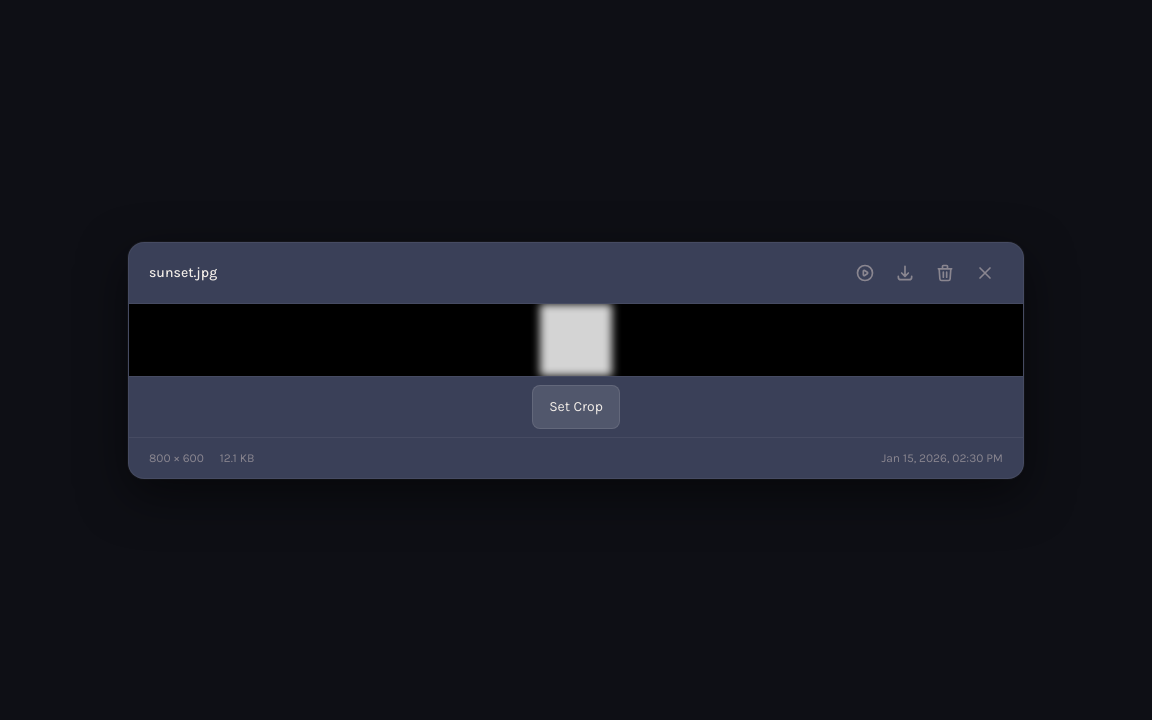
Test: MediaDetailModal › shows error banner when slideshow jump API fails
This screenshot has width=1152, height=720.
Click the button named "Show in slideshow" at (865, 272), box [847, 254, 883, 290]
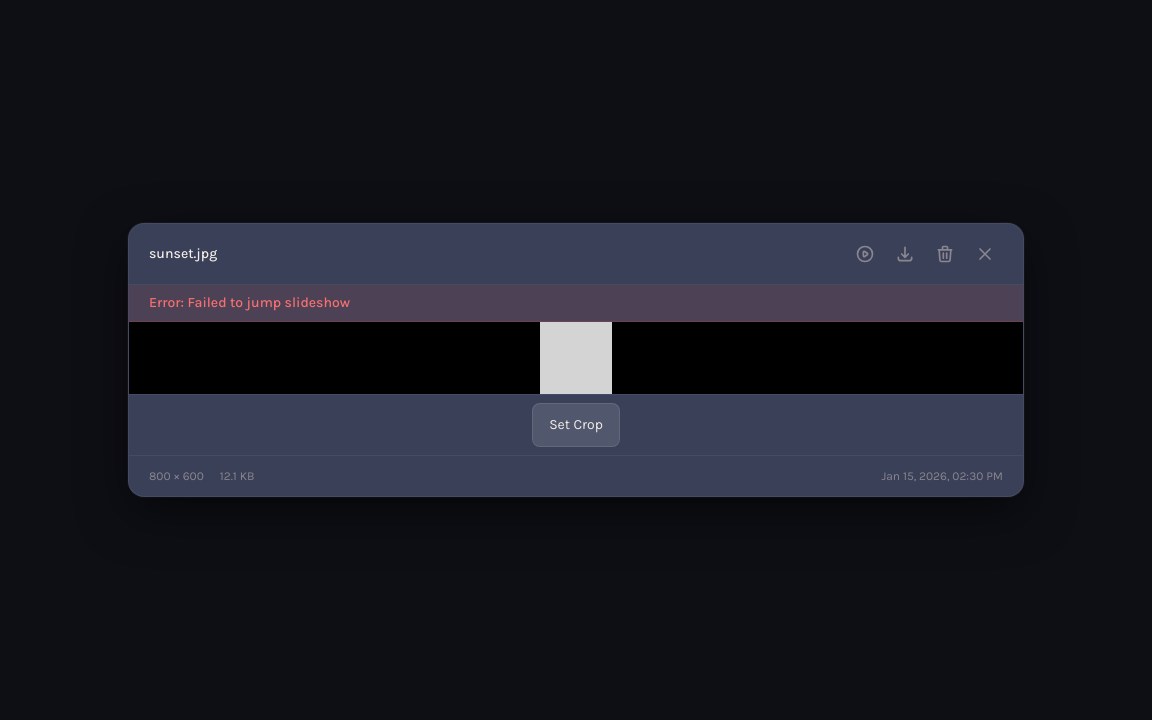
expect the text "Error: Failed to jump slideshow" is shown: met, box [149, 294, 350, 311]
